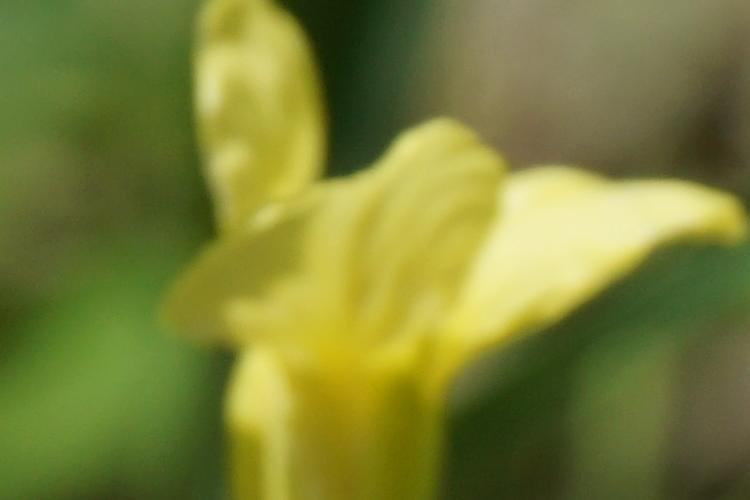yellow: (160, 10, 721, 487)
